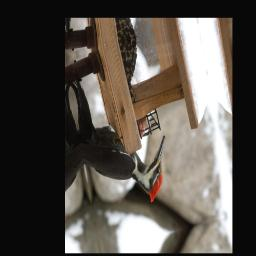Woodpecker: (68, 50, 177, 228)
